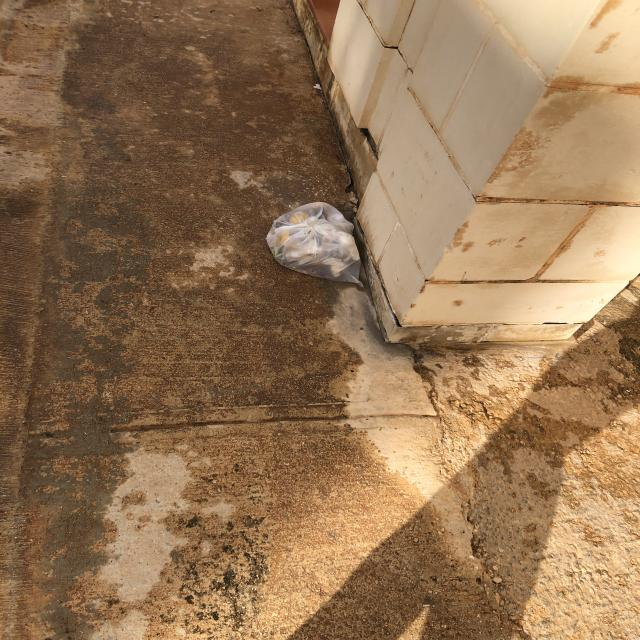Organic Waste -White Bag-: (259, 184, 369, 298)
